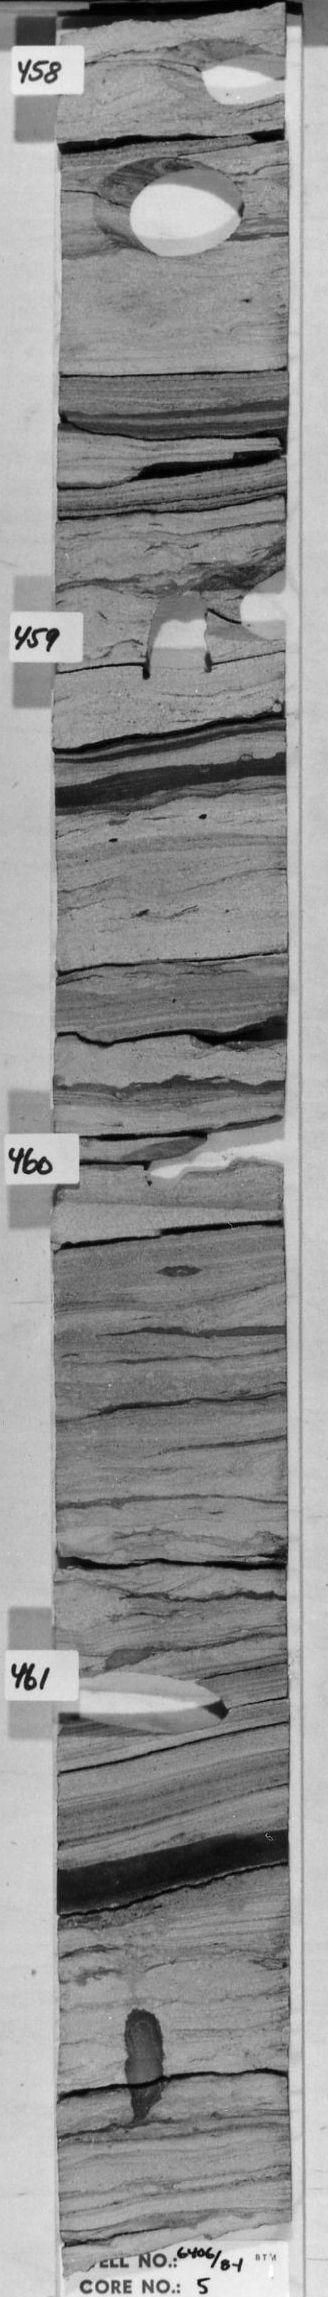hplug: (72, 1669, 239, 1737), (152, 35, 283, 110), (220, 552, 283, 647), (136, 1151, 193, 1195)
scal: (86, 155, 253, 259)
vplug: (135, 586, 217, 683)
